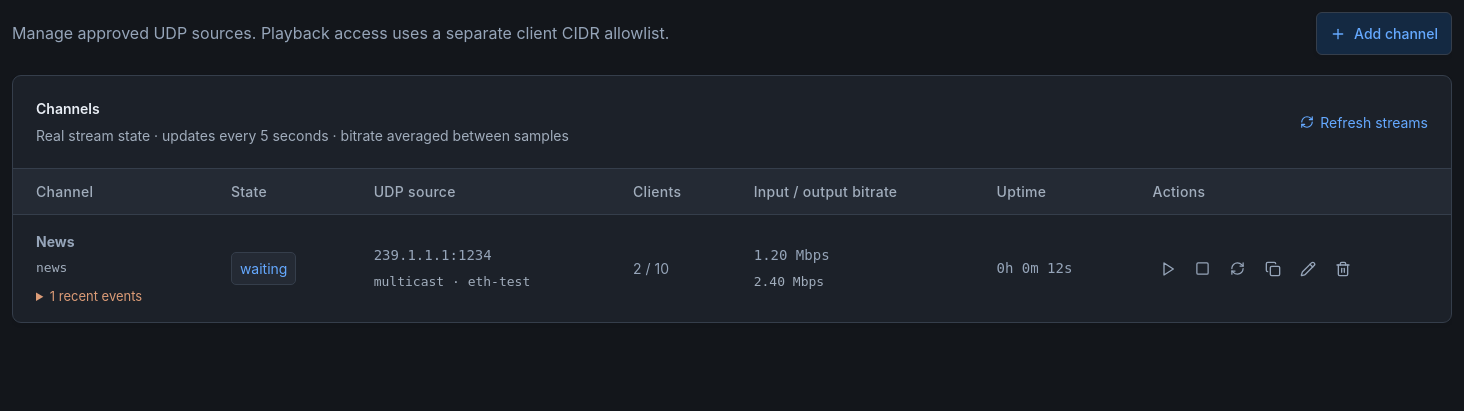
Test: stream management › copies the configured playback URL
The width and height of the screenshot is (1464, 411).
Expected: the text "News" is shown, [36, 233, 75, 250]
Click the button named "Copy URL for News". click: (1273, 268)
box: [1258, 252, 1288, 284]
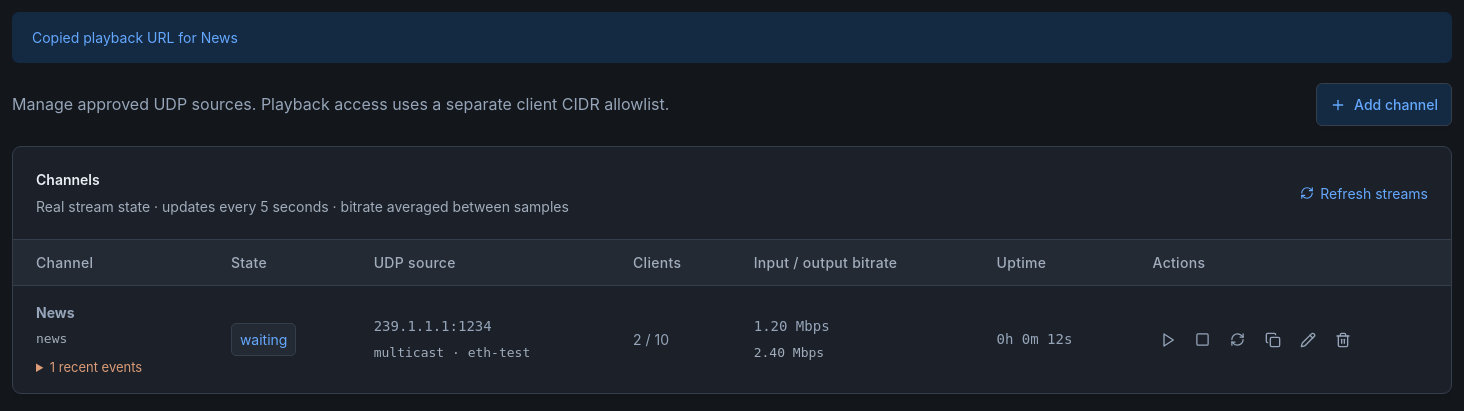
Expected: the message shows "Copied playback URL", [32, 29, 238, 46]
